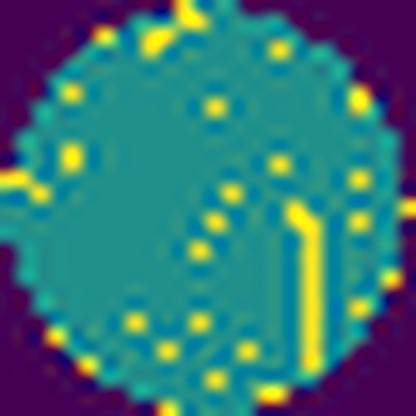Scratch: (281, 197, 333, 382)
